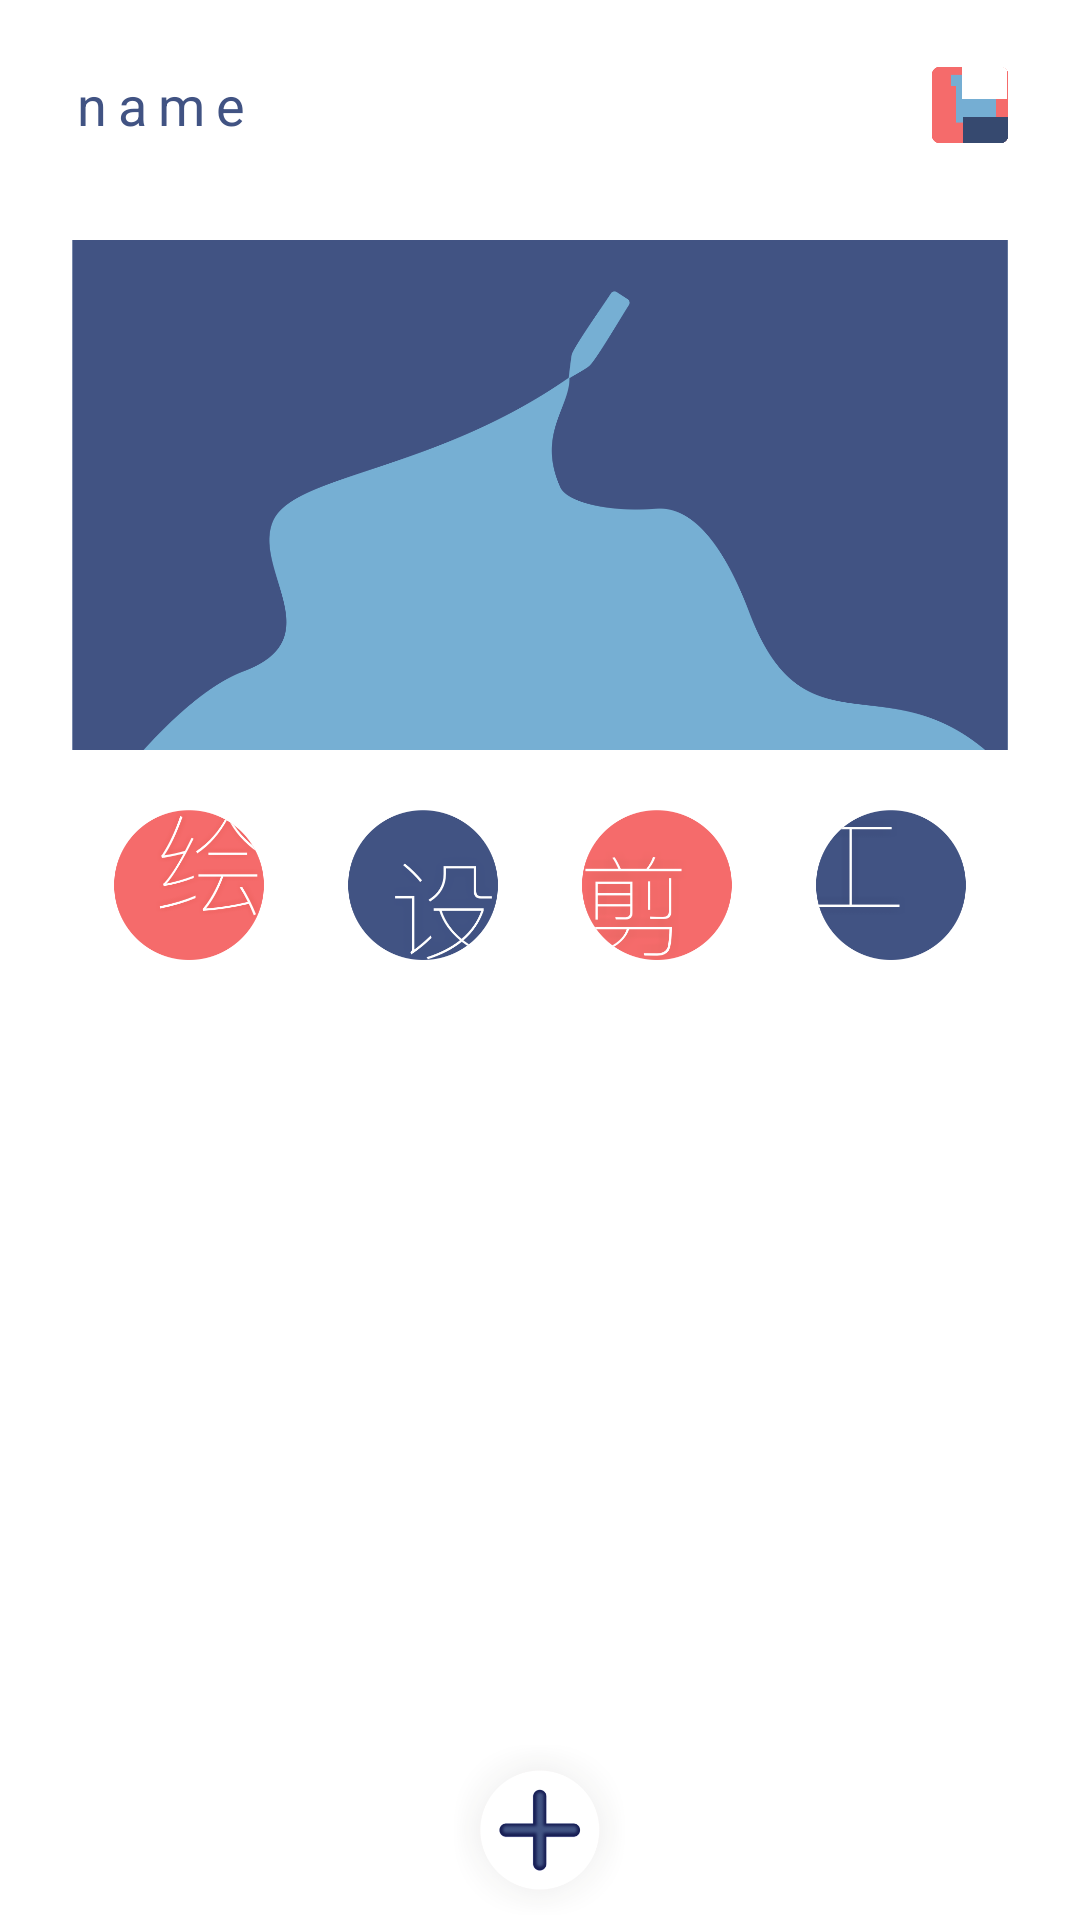

Icon bounding boxes for this 1080px x 1920px phone screenshot, format detection(x1, y1, x2, y2):
badd: detection(499, 1789, 580, 1871)
